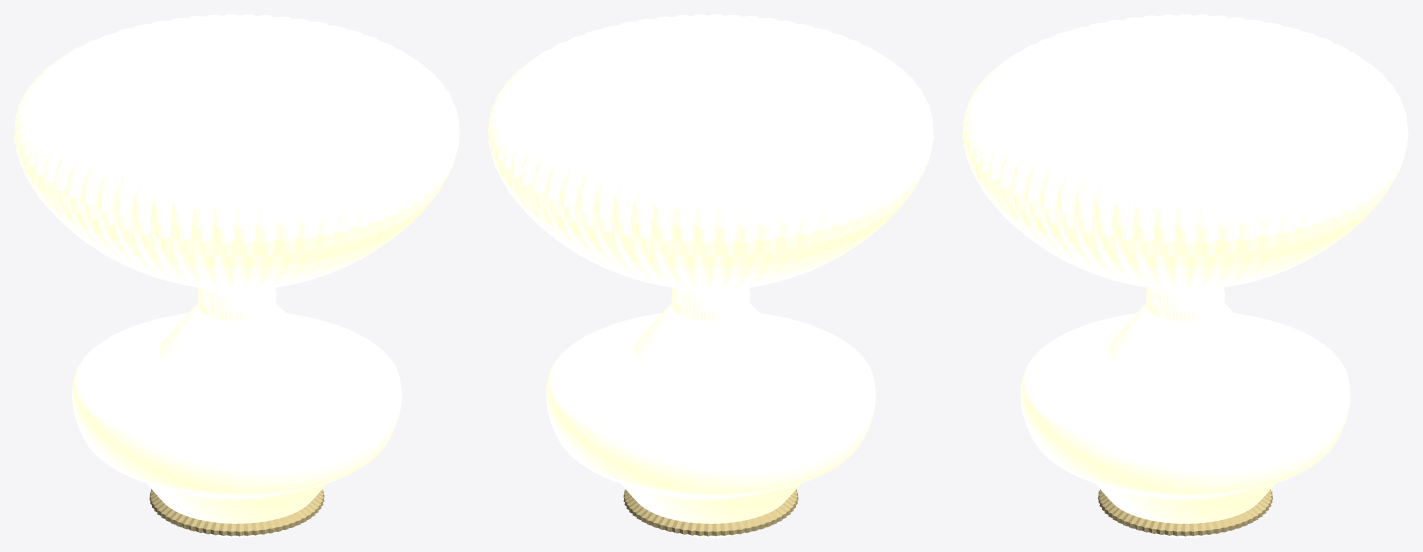
The picture shows the model from 3 angles, left to right: view 1: azimuth 30°, elevation 25°; view 2: azimuth 150°, elevation 25°; view 3: azimuth 270°, elevation 25°; orthographic projection.
Parts seen in each view (by area): view 1: Glass_Shade, Glass_Bulb, Brass_Base, Glass_Neck; view 2: Glass_Shade, Glass_Bulb, Brass_Base, Glass_Neck; view 3: Glass_Shade, Glass_Bulb, Brass_Base, Glass_Neck.
Boxes of the visible parts, x1=… form: Glass_Shade: x1=14, y1=14, x2=459, y2=290; Glass_Bulb: x1=72, y1=303, x2=401, y2=537; Brass_Base: x1=149, y1=489, x2=324, y2=536; Glass_Neck: x1=197, y1=287, x2=276, y2=321; Glass_Shade: x1=488, y1=14, x2=933, y2=290; Glass_Bulb: x1=546, y1=303, x2=875, y2=537; Brass_Base: x1=623, y1=489, x2=798, y2=536; Glass_Neck: x1=671, y1=287, x2=750, y2=321; Glass_Shade: x1=962, y1=14, x2=1408, y2=290; Glass_Bulb: x1=1020, y1=303, x2=1350, y2=537; Brass_Base: x1=1098, y1=489, x2=1272, y2=536; Glass_Neck: x1=1146, y1=287, x2=1224, y2=321.
Bounding box in the file's own units: 2.66 × 3.03 × 2.66.
